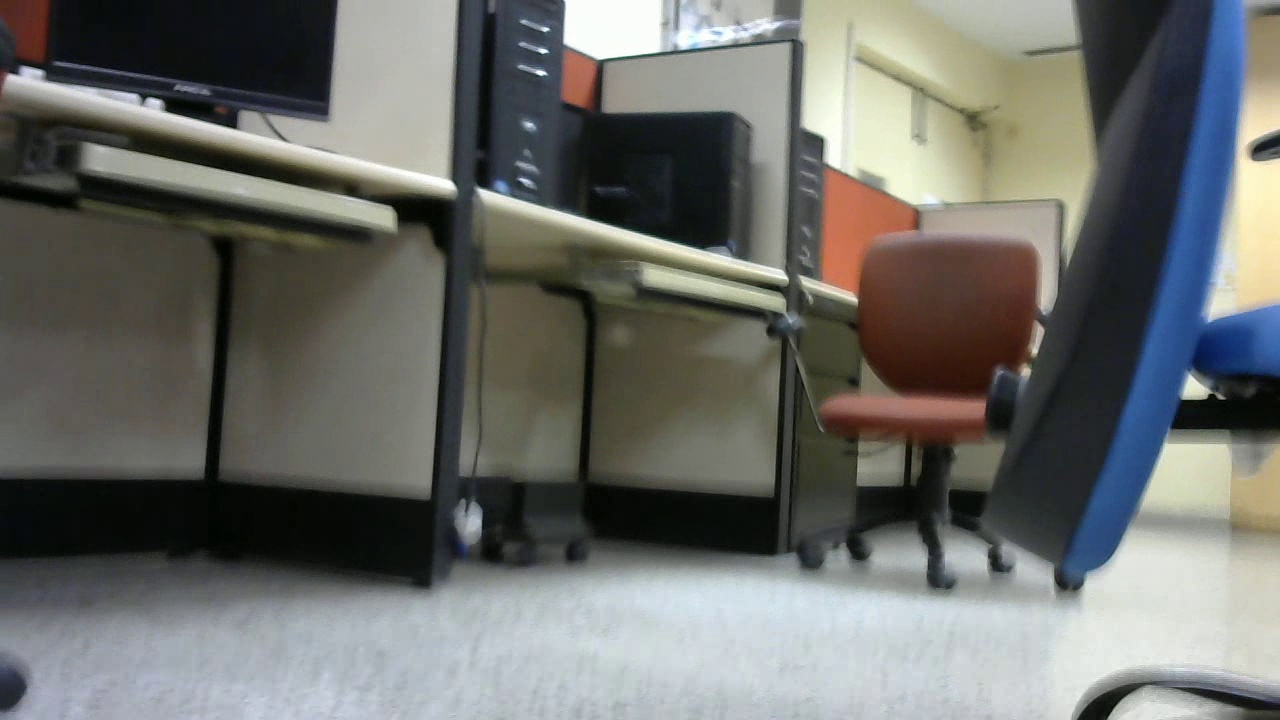chair: (745, 230, 1073, 598)
